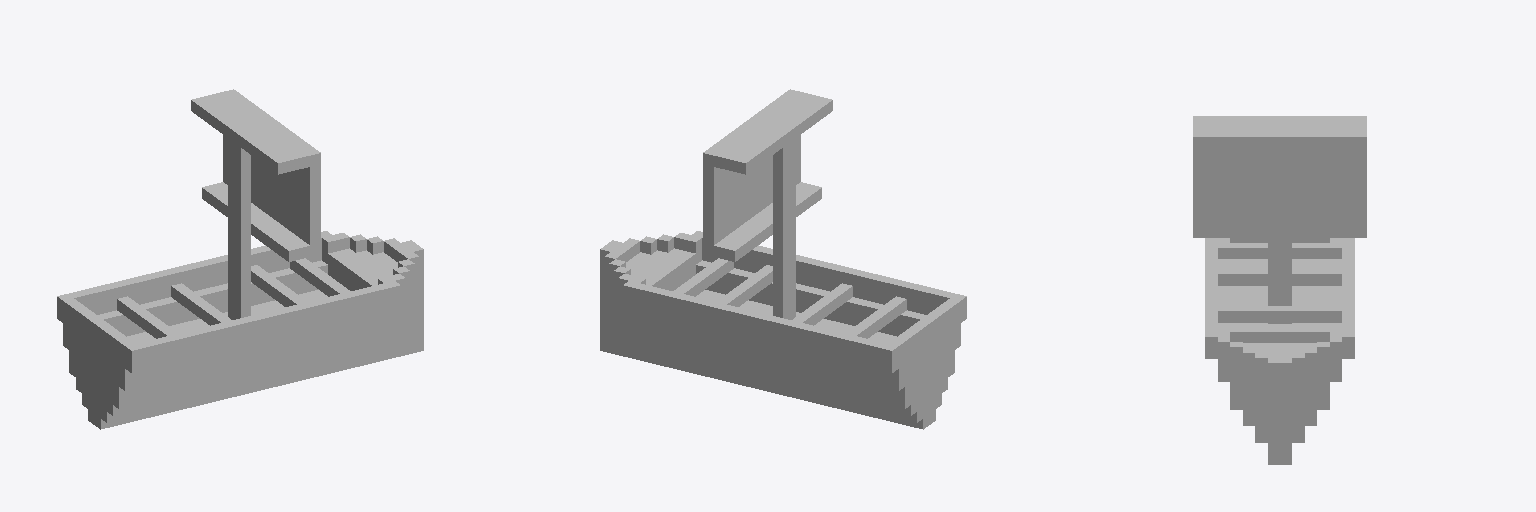
Rendered from Boat.obj.
3 renders of one model, left to right at view 1: azimuth 30°, elevation 25°; view 2: azimuth 150°, elevation 25°; view 3: azimuth 270°, elevation 25°, orthographic.
Visible parts, largest first — view 1: Boat; view 2: Boat; view 3: Boat.
Part boxes in pixels (x1,y1,x2,y2): Boat: (57,89,423,429); Boat: (600,89,966,429); Boat: (1193,116,1366,464).
Bounding box in the file's own units: 30 × 23 × 14.